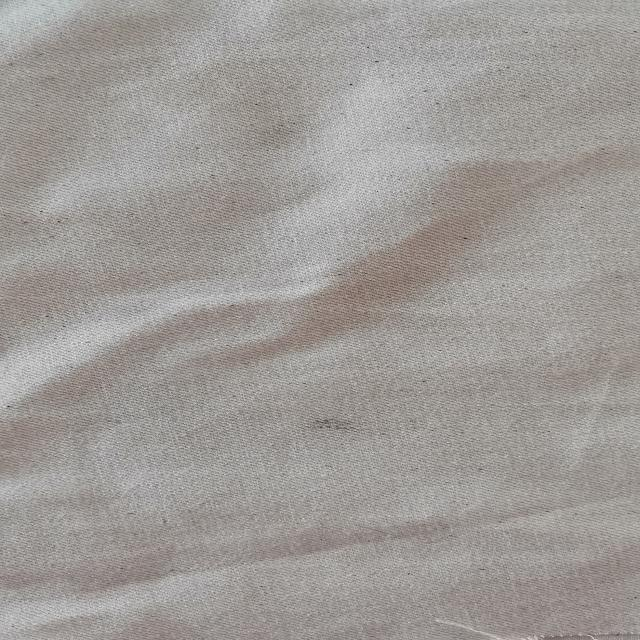taaaches: (287, 406, 393, 449)
